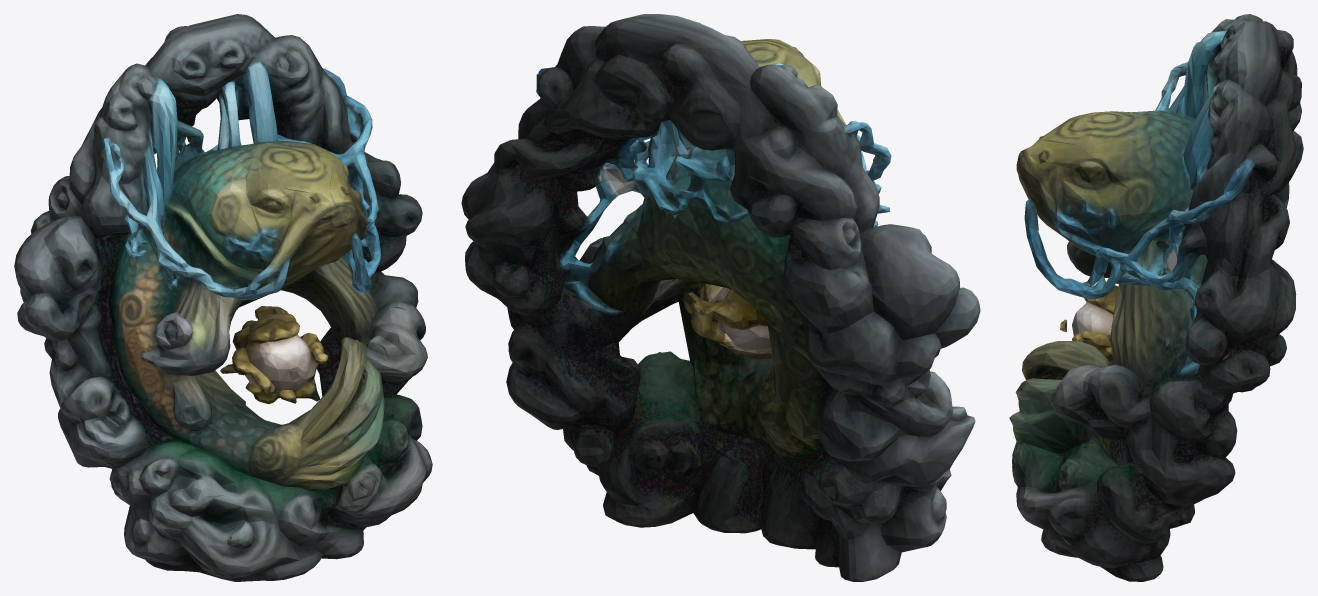
The model's file is glimmerkoi__ryujinAscendant.glb.
3 views of the same model, side by side, from view 1: azimuth 30°, elevation 25°; view 2: azimuth 150°, elevation 25°; view 3: azimuth 270°, elevation 25° (orthographic). The views are drawn at different scales.
Visible parts, largest first — view 1: world; view 2: world; view 3: world.
Part boxes in pixels (x1,y1,x2,y2): world: (14, 14, 432, 581); world: (461, 14, 980, 581); world: (1009, 14, 1303, 581).
Bounding box in the file's own units: 0.8963 × 0.9982 × 0.5413.
1 material, 1 textured.
